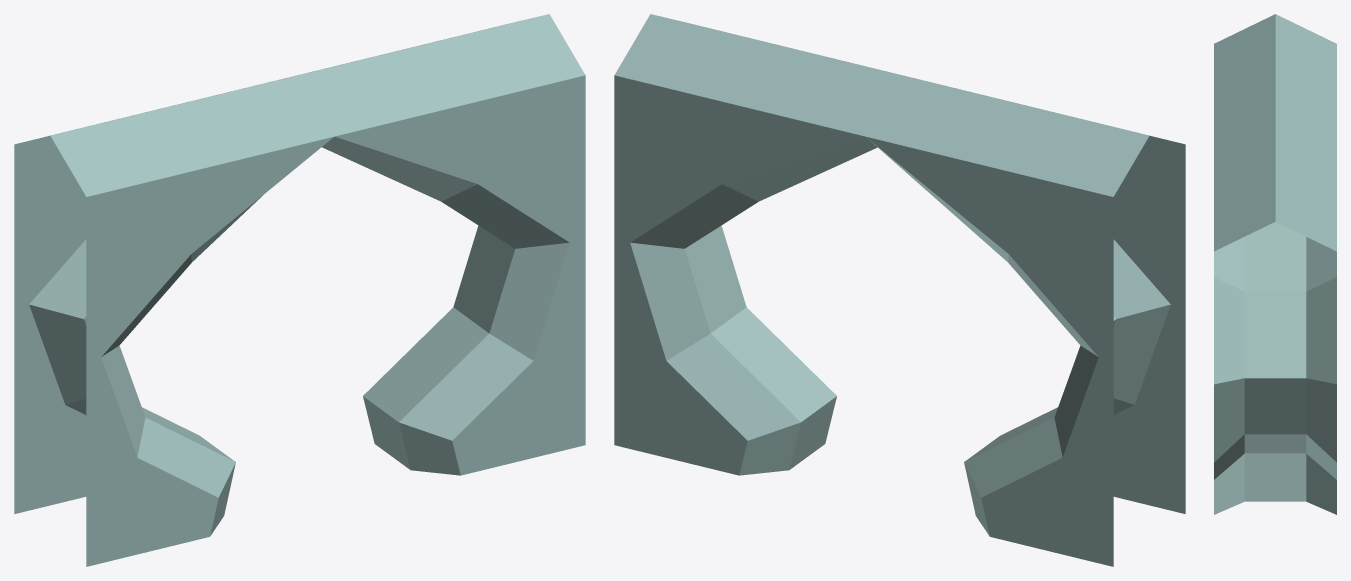
Rendered from BRailS.fbx.
The picture shows the model from 3 angles, left to right: view 1: azimuth 30°, elevation 25°; view 2: azimuth 150°, elevation 25°; view 3: azimuth 270°, elevation 25°; orthographic projection. The views are drawn at different scales.
Parts seen in each view (by area): view 1: BRailS; view 2: BRailS; view 3: BRailS.
Part boxes in pixels (x1=…): BRailS: x1=14, y1=14, x2=585, y2=566; BRailS: x1=614, y1=14, x2=1185, y2=566; BRailS: x1=1214, y1=14, x2=1336, y2=514.
Bounding box in the file's own units: 200 × 155 × 50.
